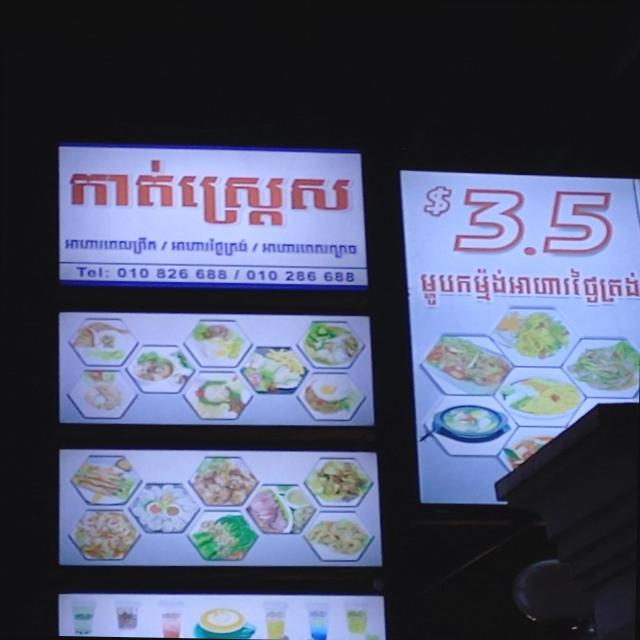230: (110, 261, 361, 284)
709: (441, 183, 620, 259)
Yolov11_80vkh: (65, 156, 354, 227), (414, 264, 640, 311), (59, 232, 362, 260)
